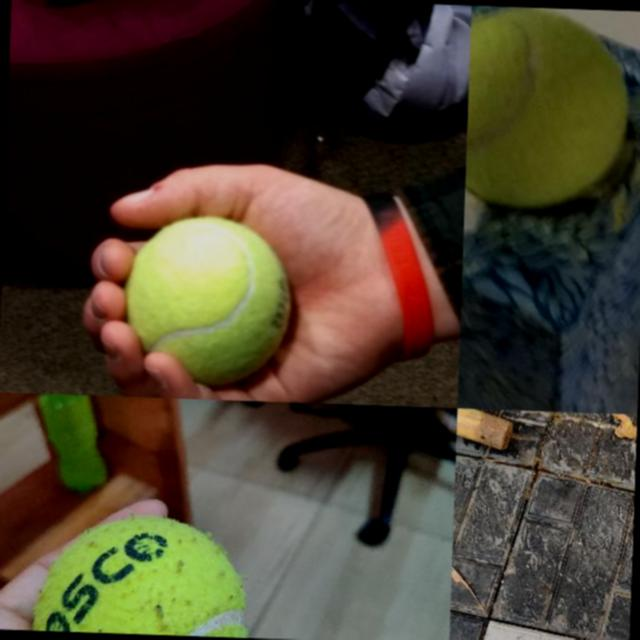tennis-ball: (464, 5, 634, 212), (31, 510, 252, 637), (130, 212, 294, 354)
